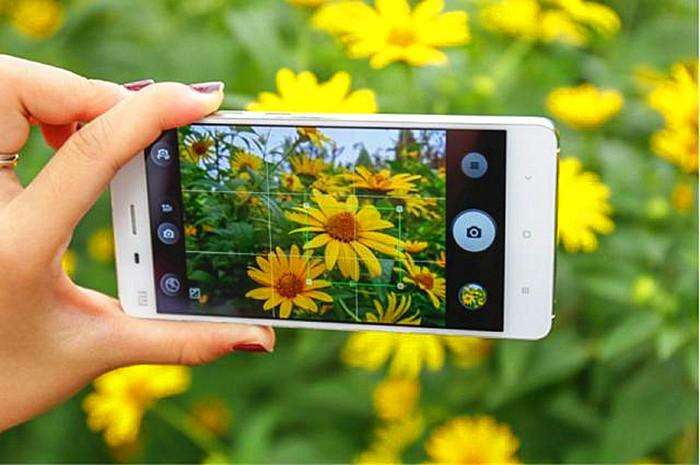taking photos: (1, 42, 566, 414)
